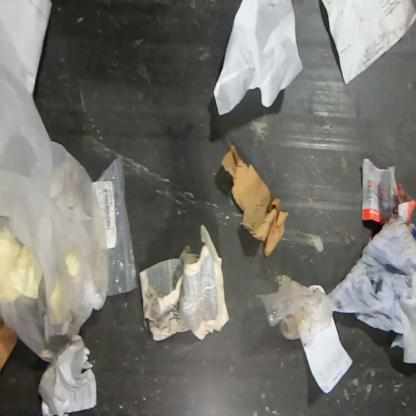cardboard: (221, 145, 289, 258), (0, 313, 18, 375)
soft_plastic: (0, 59, 109, 362), (330, 217, 415, 364), (94, 157, 136, 296), (258, 273, 334, 343)
